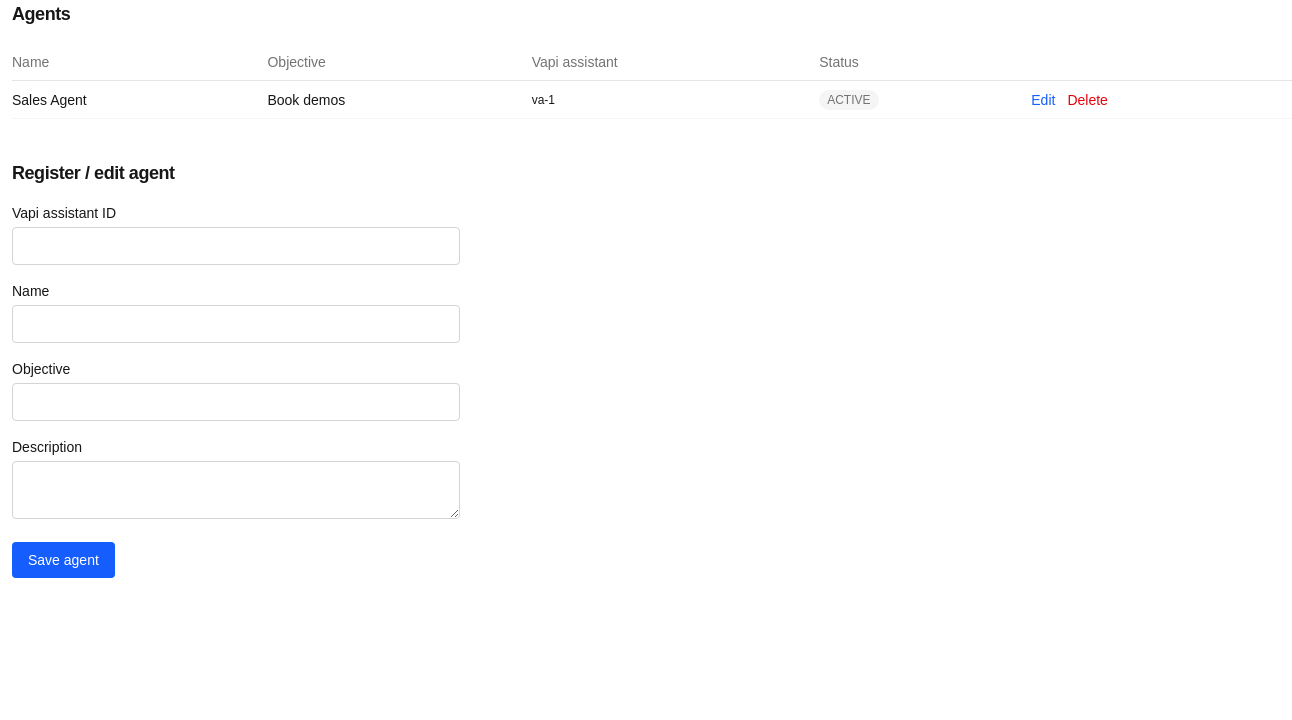
Test case: AgentsView › surfaces an error and keeps the row when the delete fails
Expected: the text "Sales Agent" is shown, [12,80,268,118]
Click the button "Delete": coordinates (1088, 100) [1067,90,1108,110]
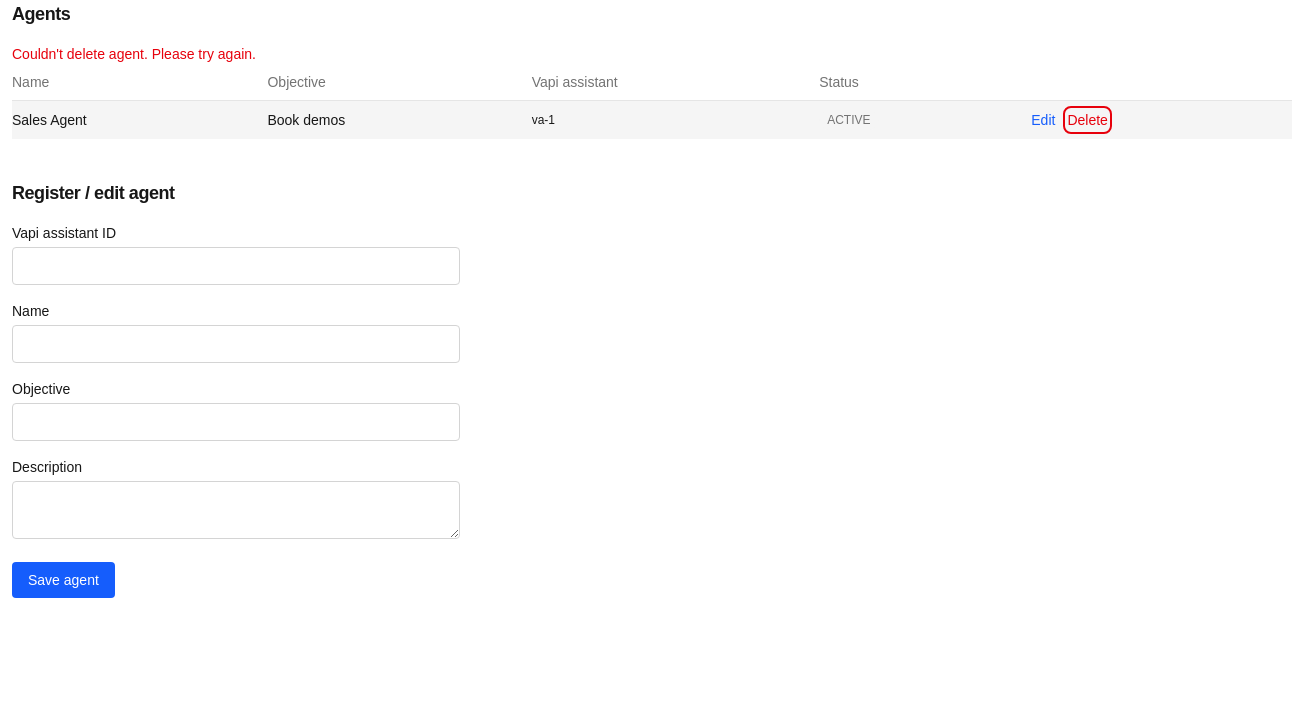
Expected: the text "Sales Agent" is shown, [12,100,268,138]
Result: the message "Couldn't delete agent. Please try again." is shown at [12,46,256,62]
